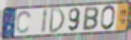9: (67, 7, 81, 32)
B: (82, 6, 100, 32)
C: (15, 10, 33, 35)
D: (48, 8, 66, 34)
I: (41, 8, 49, 35)
O: (99, 5, 116, 32)
